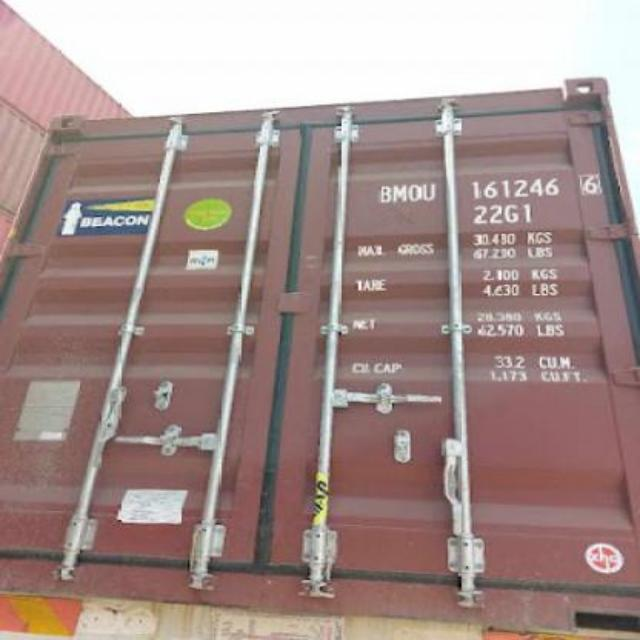1: (500, 178, 512, 200), (470, 181, 482, 197)
2: (512, 179, 528, 197)
4: (528, 178, 544, 196)
6: (544, 176, 562, 197), (482, 179, 500, 197), (580, 175, 598, 191)
B: (378, 185, 392, 203)
M: (392, 183, 406, 201)
O: (408, 184, 422, 200)
U: (422, 183, 436, 201)
